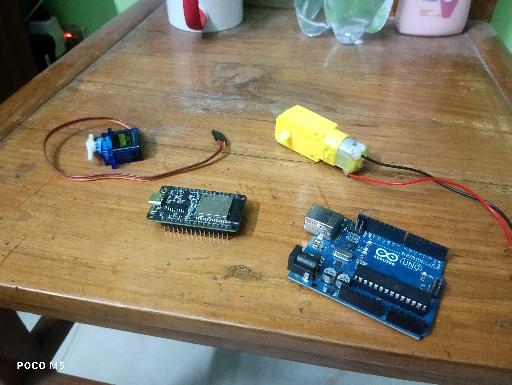Arduino: (287, 202, 450, 341)
Esp32: (146, 184, 247, 241)
Motor: (274, 105, 368, 177), (86, 127, 144, 170)
